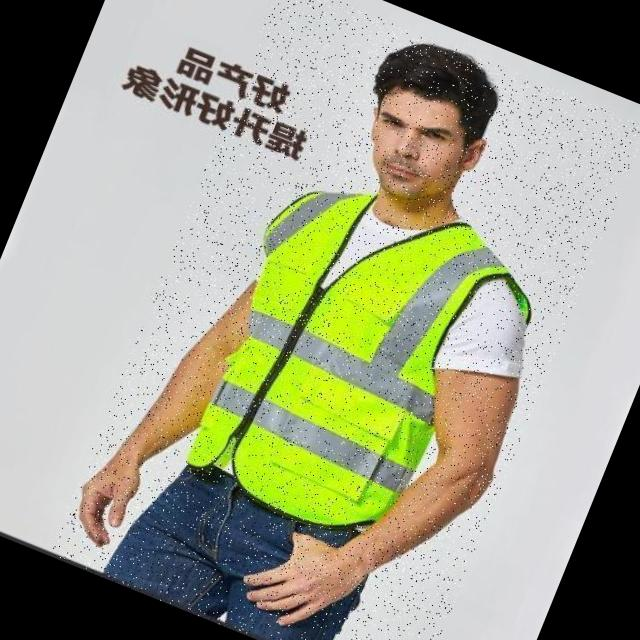safety_vest: (161, 152, 544, 566)
vehicle: (48, 0, 640, 640)
